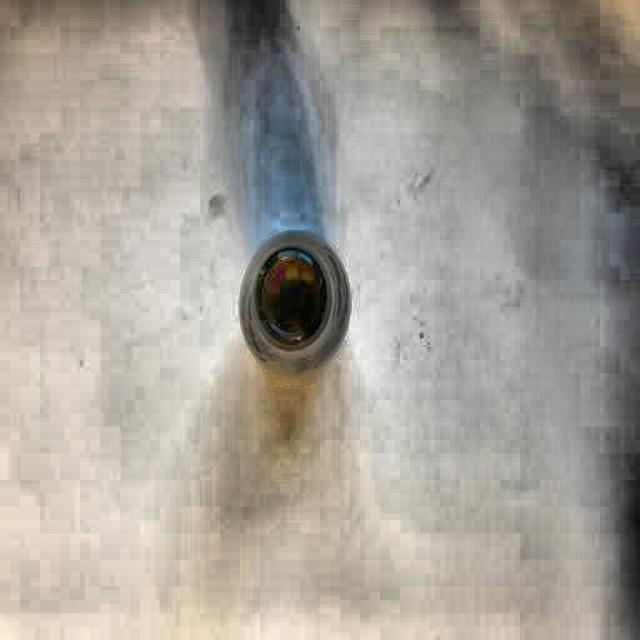glass: (232, 227, 350, 381)
